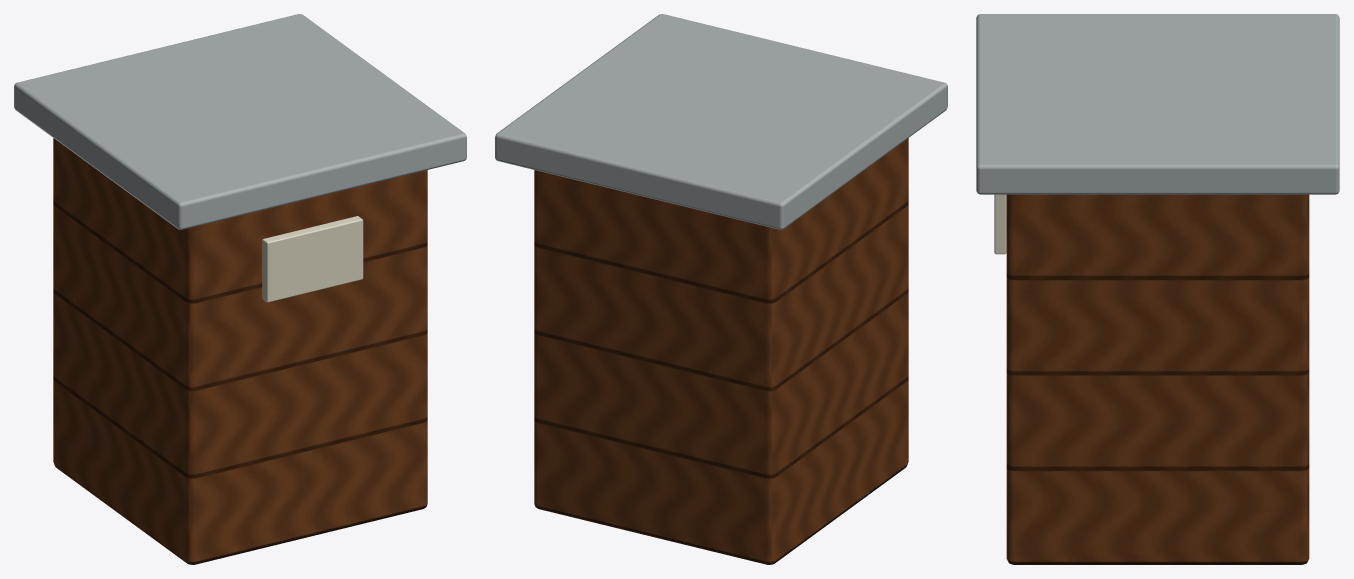
The picture shows the model from 3 angles, left to right: view 1: azimuth 30°, elevation 25°; view 2: azimuth 150°, elevation 25°; view 3: azimuth 270°, elevation 25°; orthographic projection. The views are drawn at different scales.
Parts seen in each view (by area): view 1: sample-display-plinth; view 2: sample-display-plinth; view 3: sample-display-plinth.
Boxes of the visible parts, x1,y1,x2,y2 form: sample-display-plinth: [14, 14, 466, 564]; sample-display-plinth: [495, 14, 947, 564]; sample-display-plinth: [976, 14, 1339, 564].
Size of the model in its own units: 0.6 by 0.755 by 0.6.
3 materials, 1 textured.
